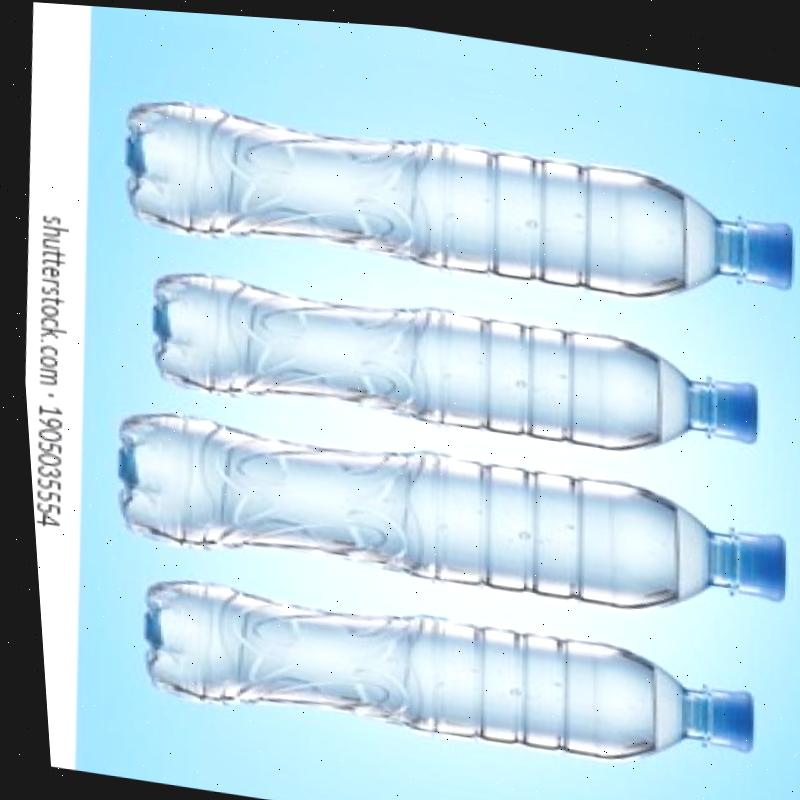botella: (114, 83, 800, 320), (102, 399, 792, 631), (141, 256, 764, 471), (121, 567, 754, 777)
